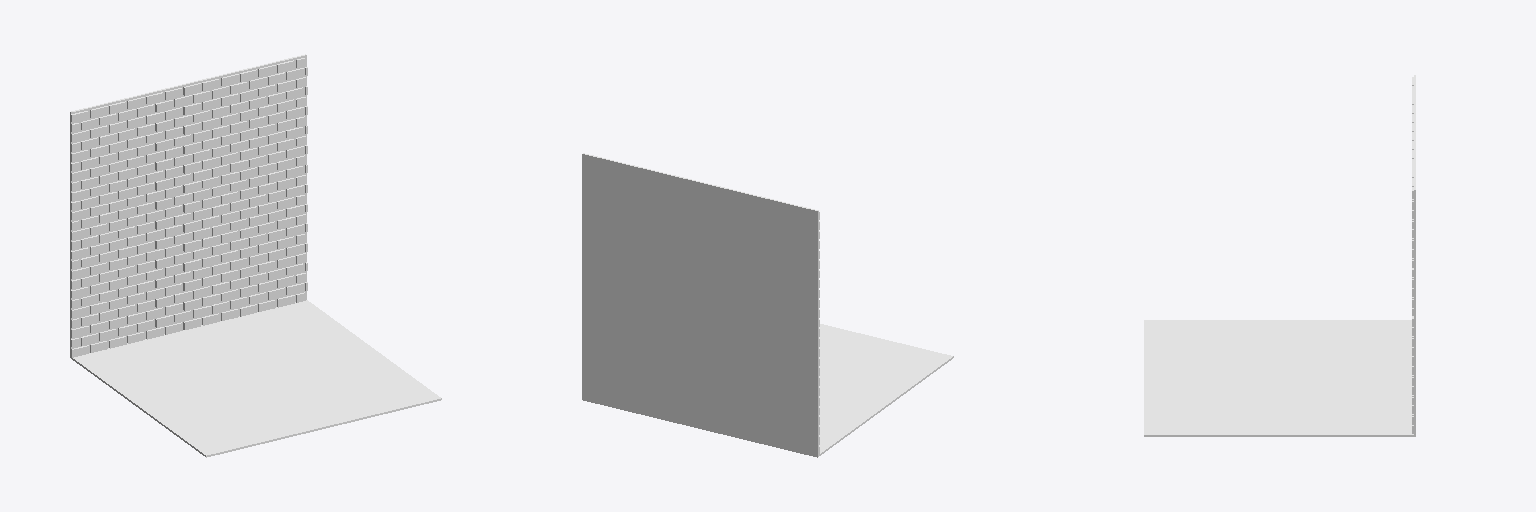
Rendered from стена-5.obj.
The picture shows the model from 3 angles: view 1: azimuth 30°, elevation 25°; view 2: azimuth 150°, elevation 25°; view 3: azimuth 270°, elevation 25°; orthographic projection.
Visible parts, largest first — view 1: object 1; view 2: object 1; view 3: object 1.
Part boxes in pixels (x1,y1,x2,y2): object 1: (70,54,441,457); object 1: (582,153,953,457); object 1: (1144,75,1415,436).
Bounding box in the file's own units: 12.6 × 12.6 × 12.6.